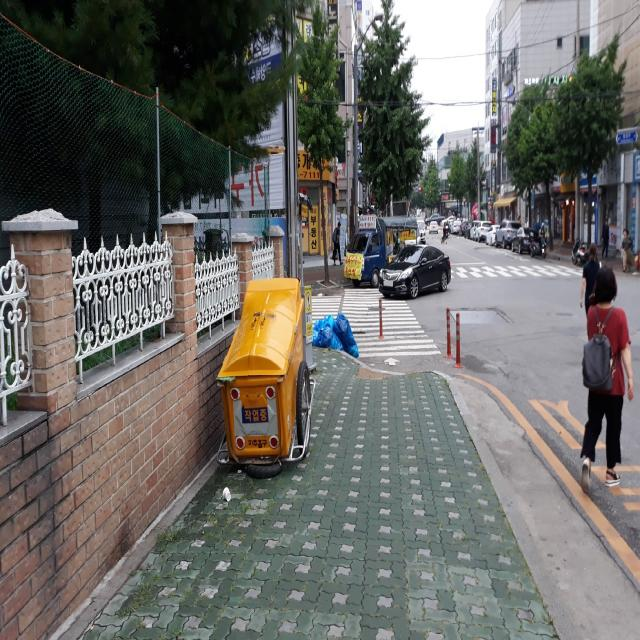횡단보도: (311, 287, 441, 366), (453, 266, 582, 276)
